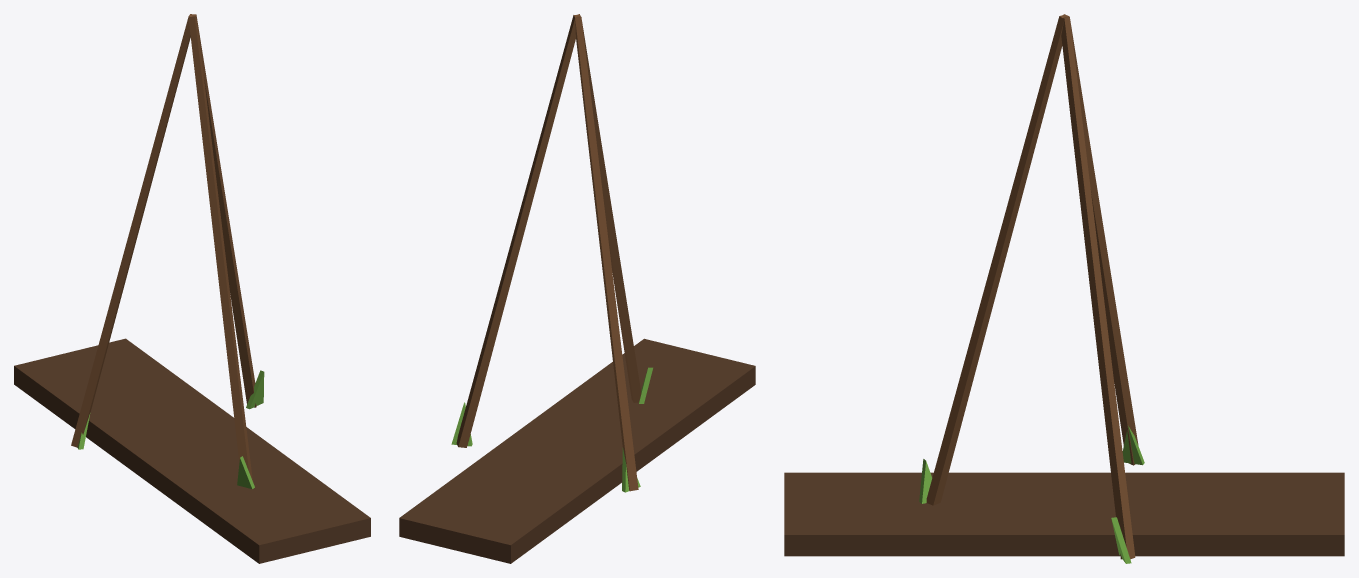
Rendered from crop_beans_1.glb.
The picture shows the model from 3 angles, left to right: view 1: azimuth 30°, elevation 25°; view 2: azimuth 150°, elevation 25°; view 3: azimuth 270°, elevation 25°; orthographic projection. The views are drawn at different scales.
Parts seen in each view (by area): view 1: crop_beans_1; view 2: crop_beans_1; view 3: crop_beans_1.
Part boxes in pixels (x1,y1,x2,y2): crop_beans_1: [14, 14, 370, 563]; crop_beans_1: [399, 14, 755, 563]; crop_beans_1: [784, 14, 1344, 563].
Bounding box in the file's own units: 0.8478 × 1.9 × 1.9.
